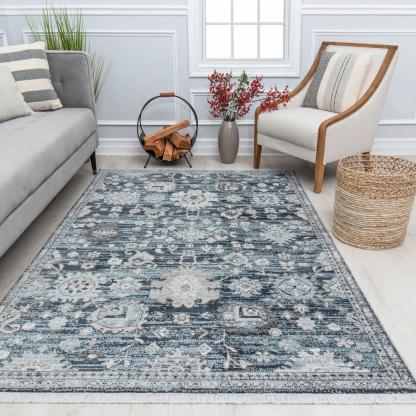Carpet: (1, 167, 414, 406)
